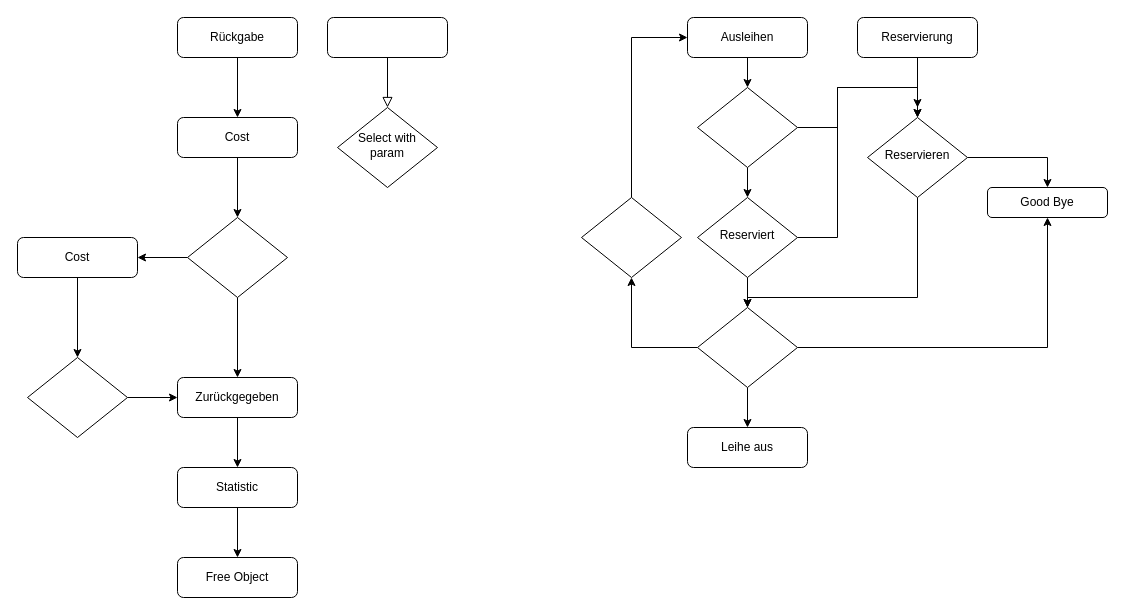
Some shapes in this 1125 by 615 pixel diagram are drawn without their labels. The shapes that lost their labels are listed below. From the top down, each one's centre as x and y in pixels, then its label:
At (387,37): "Medien Suche".
At (747,127): "ist Ausgeliehen".
At (237,257): "Überzogen".
At (631,237): "Innerhalb 3 days".
At (747,347): "FSK".
At (77,397): "Pay".
